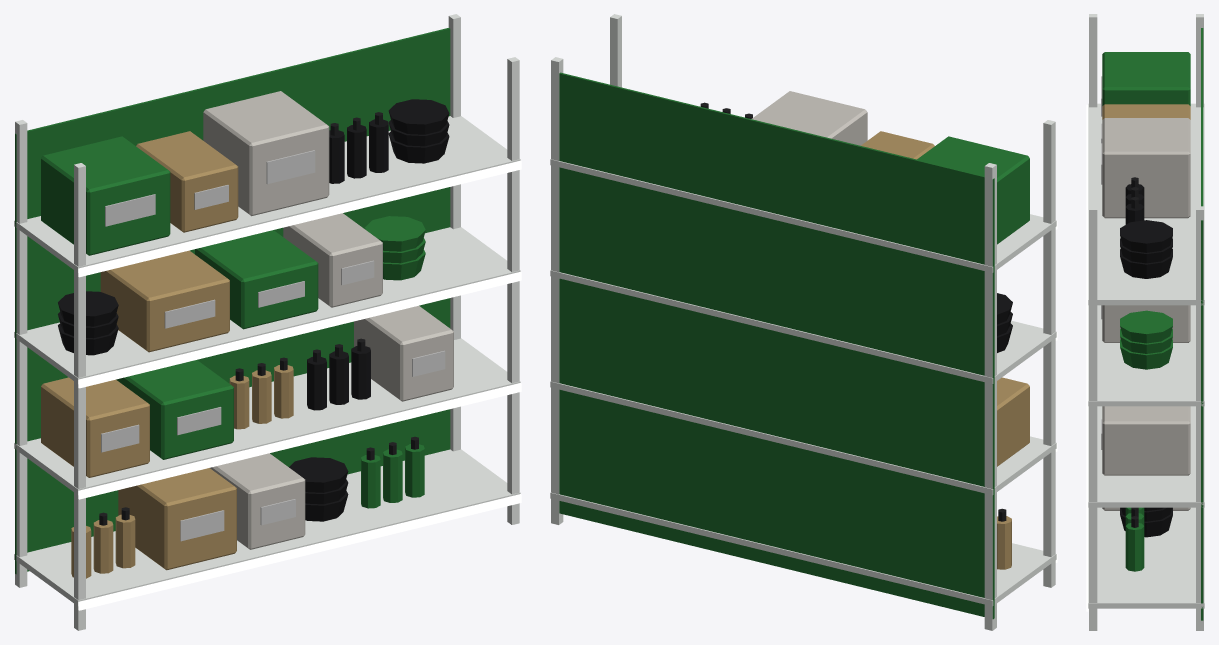
The model's file is grow_shelf.glb.
3 views of the same model, side by side, from view 1: azimuth 30°, elevation 25°; view 2: azimuth 150°, elevation 25°; view 3: azimuth 270°, elevation 25° (orthographic). The views are drawn at different scales.
Visible parts, largest first — view 1: grow_shelf; view 2: grow_shelf; view 3: grow_shelf.
Part boxes in pixels (x1=…): grow_shelf: x1=14, y1=14, x2=521, y2=630; grow_shelf: x1=550, y1=14, x2=1057, y2=630; grow_shelf: x1=1086, y1=14, x2=1204, y2=630.
Size of the model in its own units: 2 by 2 by 0.509.
